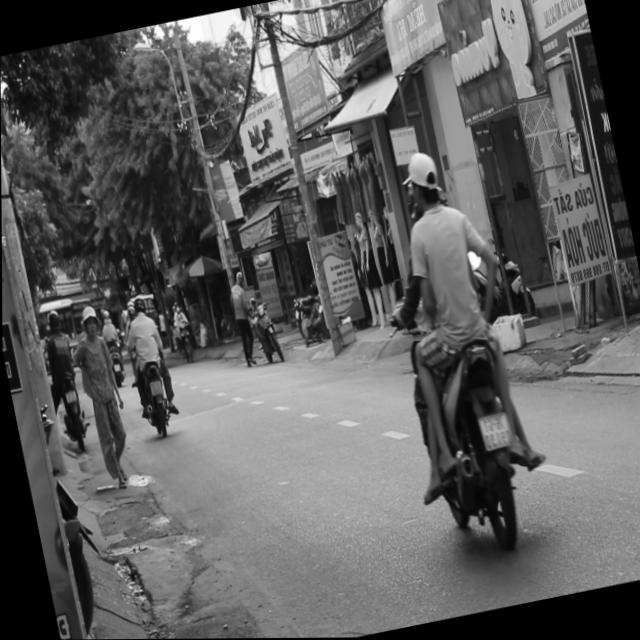licenseplate: (357, 138, 559, 566)
motorcyclist: (400, 148, 448, 217)
nohelmet: (478, 412, 513, 450)
